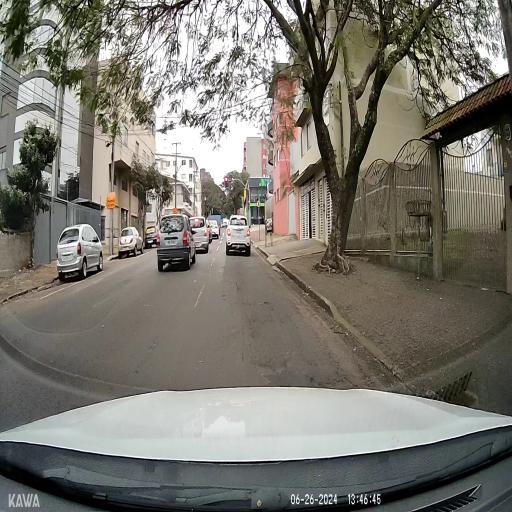R-6c: (256, 200, 260, 208)
